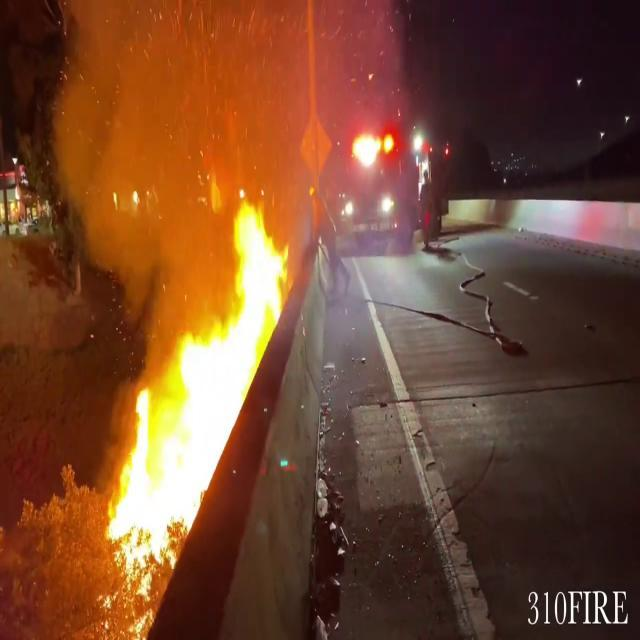Fire: (106, 184, 308, 596)
Smoke: (38, 0, 350, 266)
